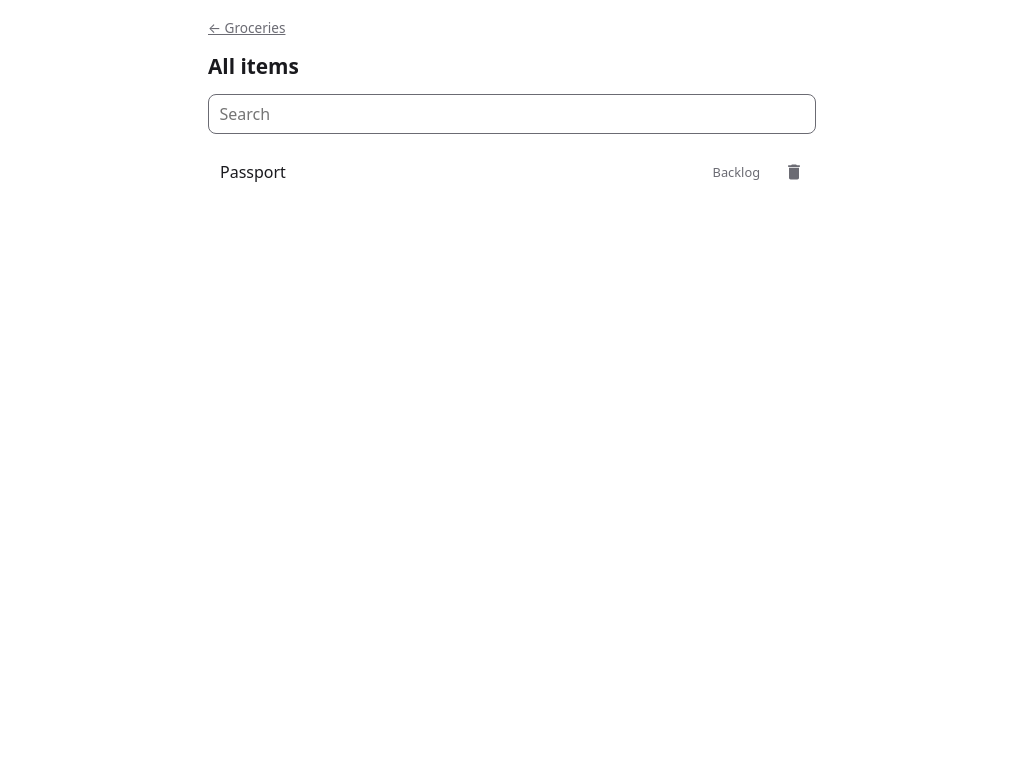
Scenario: RegistryPage due date (T-323) › does not offer it on a shopping list
The image size is (1024, 768).
Click the text "Passport" at (253, 172), box [220,161,286,183]
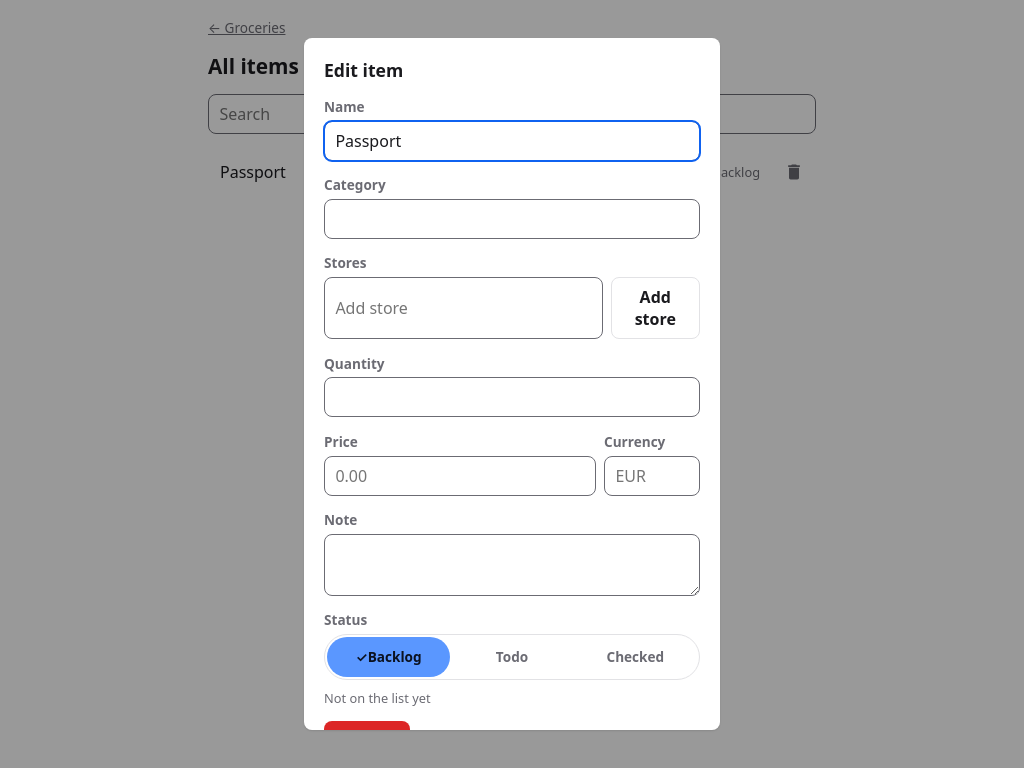
Check: the text box labelled "Note" is shown, box [324,534,700,596]
